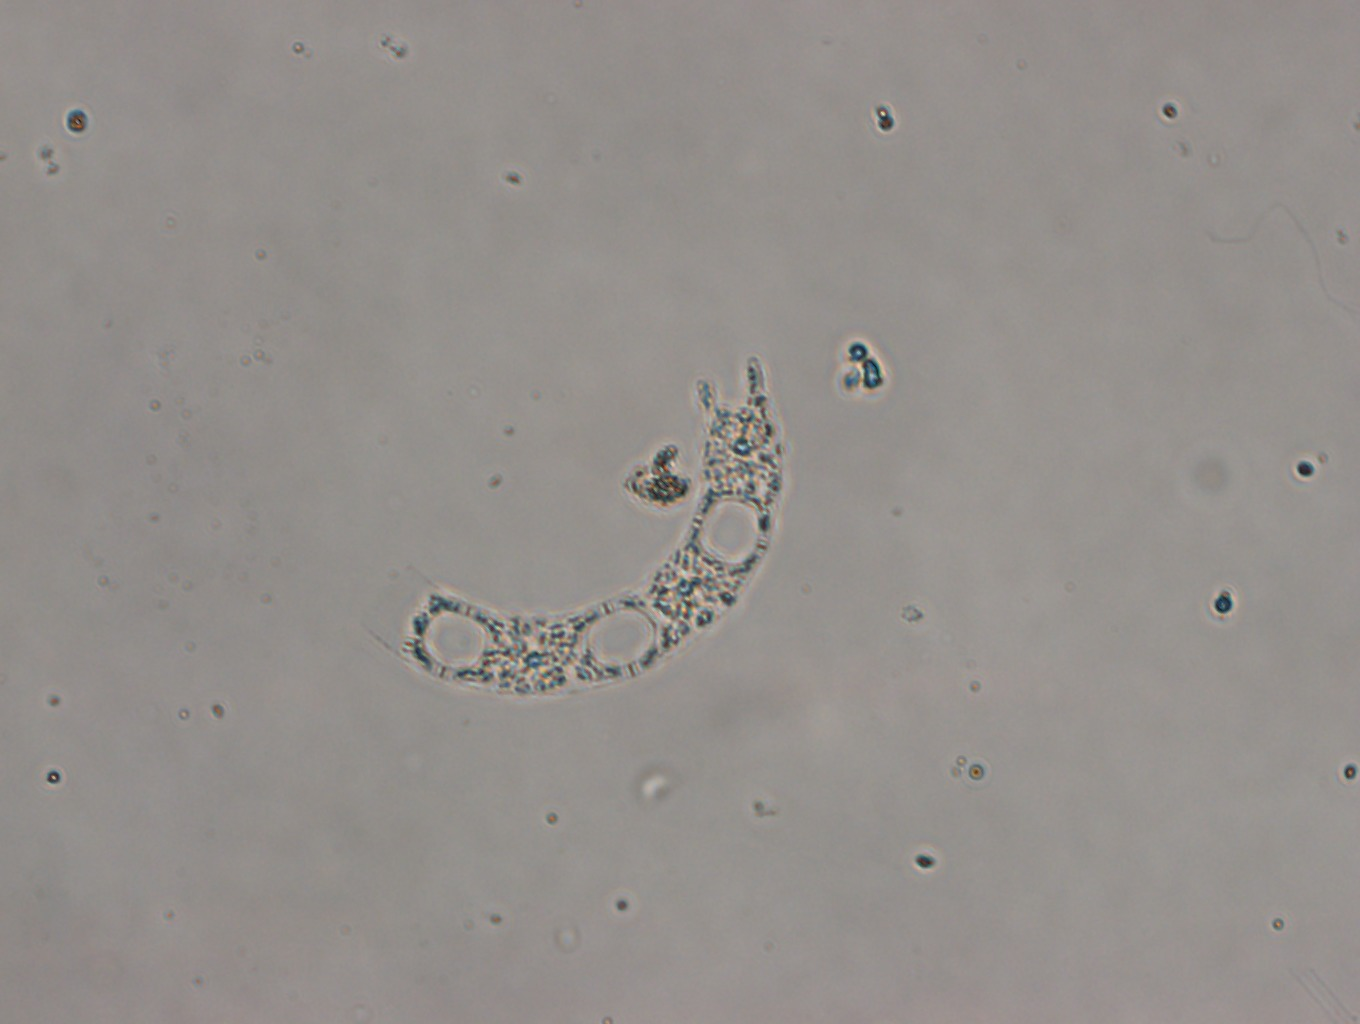eucampia: (367, 358, 789, 697)
